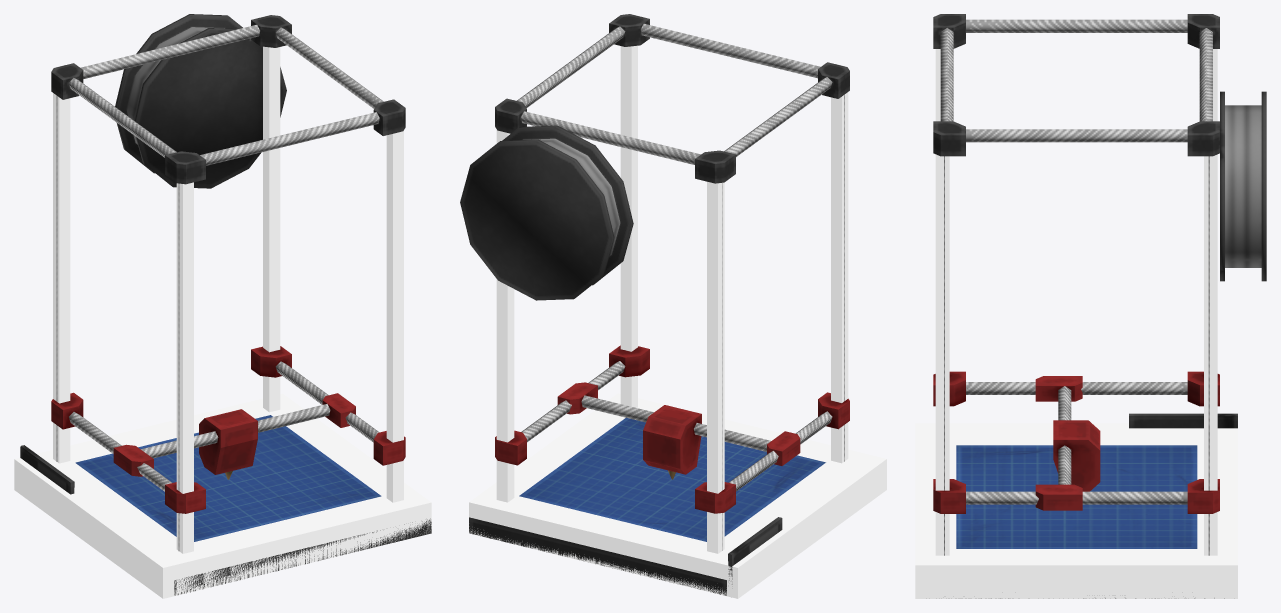
File: printer.glb
3 renders of one model, left to right at view 1: azimuth 30°, elevation 25°; view 2: azimuth 150°, elevation 25°; view 3: azimuth 270°, elevation 25°, orthographic. The views are drawn at different scales.
Visible parts, largest first — view 1: frame, col_base, base, col_post_m1_1, col_post_1_1, col_post_m1_m1, col_post_1_m1, lift, gantry, head; view 2: frame, col_base, base, col_post_m1_m1, col_post_m1_1, lift, col_post_1_1, col_post_1_m1, head, gantry; view 3: col_base, frame, base, lift, col_post_1_1, col_post_1_m1, gantry, head.
Boxes of the visible parts, <box> form: frame: <box>51,14,405,550</box>; col_base: <box>14,393,431,598</box>; base: <box>20,415,431,595</box>; col_post_m1_1: <box>176,182,193,553</box>; col_post_1_1: <box>386,130,403,502</box>; col_post_m1_m1: <box>53,93,70,463</box>; col_post_1_m1: <box>263,46,280,412</box>; lift: <box>51,346,405,513</box>; gantry: <box>113,393,355,476</box>; head: <box>199,409,257,479</box>; frame: <box>460,14,849,550</box>; col_base: <box>469,393,886,598</box>; base: <box>469,417,825,595</box>; col_post_m1_m1: <box>707,181,724,553</box>; col_post_m1_1: <box>831,92,848,463</box>; lift: <box>495,345,849,513</box>; col_post_1_1: <box>620,45,637,407</box>; col_post_1_m1: <box>496,129,514,502</box>; head: <box>643,405,701,479</box>; gantry: <box>557,382,800,465</box>; col_base: <box>915,423,1237,598</box>; frame: <box>933,14,1266,555</box>; base: <box>956,413,1237,598</box>; lift: <box>933,371,1219,513</box>; col_post_1_1: <box>935,154,949,555</box>; col_post_1_m1: <box>1204,154,1217,555</box>; gantry: <box>1035,376,1082,510</box>; head: <box>1053,420,1100,491</box>.
Size of the model in its own units: 1.46 by 2.19 by 1.52.
Materials: 2 (1 with a texture image).
